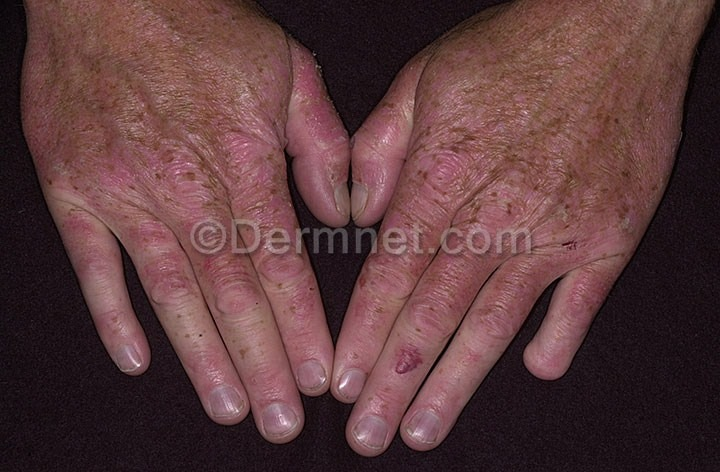Melasma: (35, 80, 336, 228), (395, 103, 667, 224), (143, 268, 332, 398), (366, 265, 475, 400)
